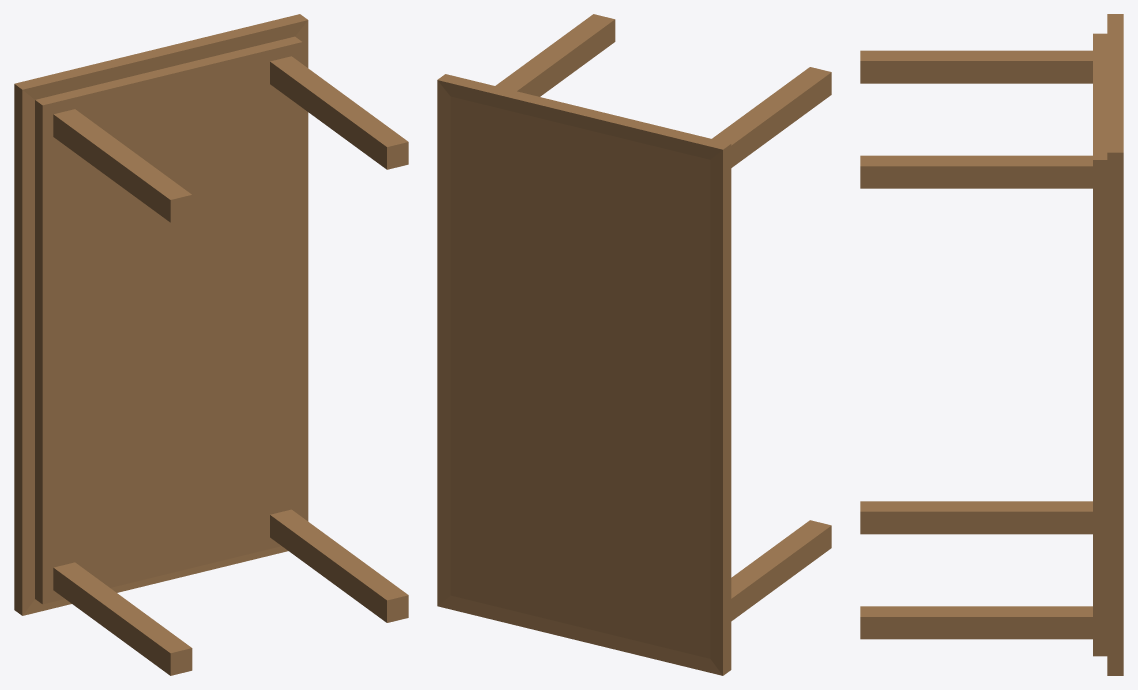
File: Tisch.fbx
3 renders of one model, left to right at view 1: azimuth 30°, elevation 25°; view 2: azimuth 150°, elevation 25°; view 3: azimuth 270°, elevation 25°, orthographic.
Visible parts, largest first — view 1: Cube; view 2: Cube; view 3: Cube.
Part boxes in pixels (x1=…): Cube: x1=14, y1=14, x2=408, y2=675; Cube: x1=437, y1=14, x2=831, y2=675; Cube: x1=860, y1=14, x2=1123, y2=675.
Bounding box in the file's own units: 264 × 464 × 212.
